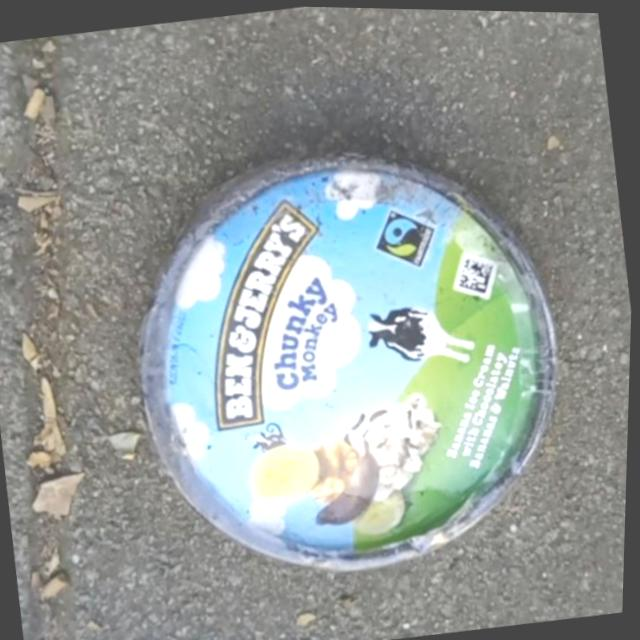Paper: (101, 108, 599, 606)
